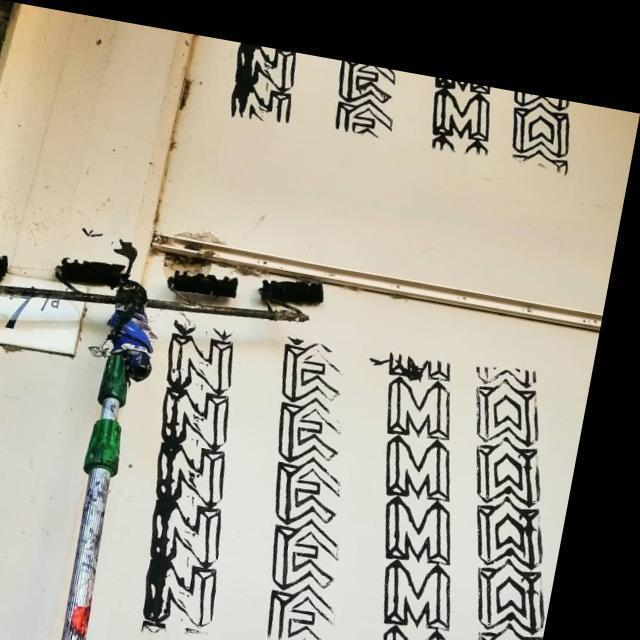nonspitting: (139, 321, 546, 640), (231, 40, 573, 174)
